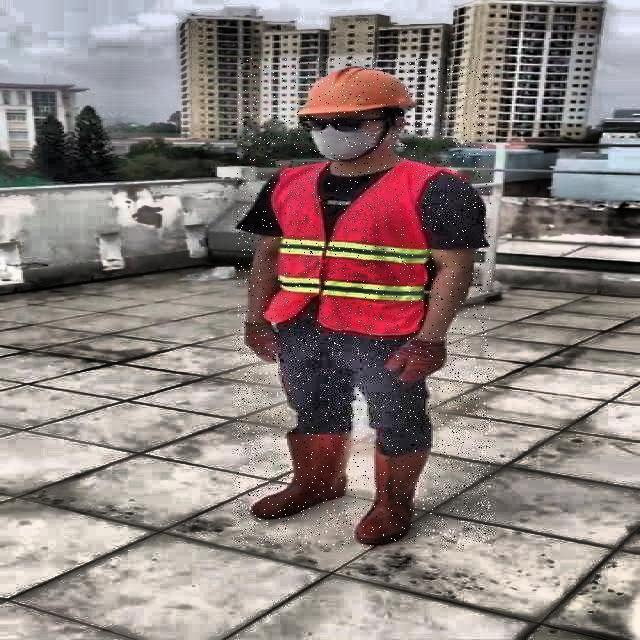safety_helmet: (295, 66, 410, 121)
safety_jacket: (264, 161, 438, 331)
